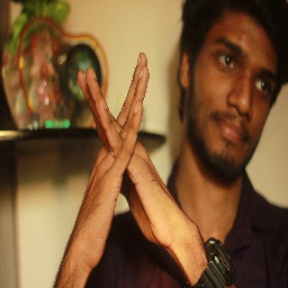W: (64, 42, 183, 250)
